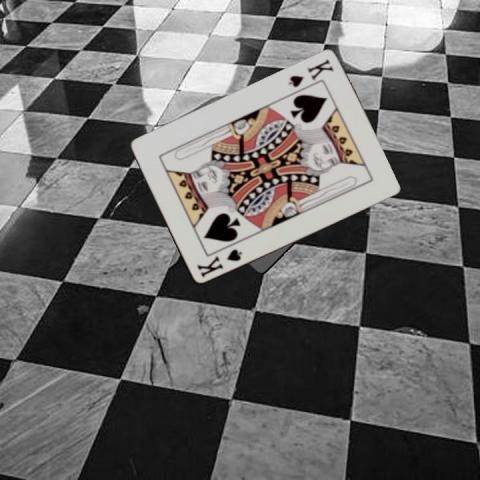Ks: (284, 56, 334, 89), (194, 247, 243, 279)
